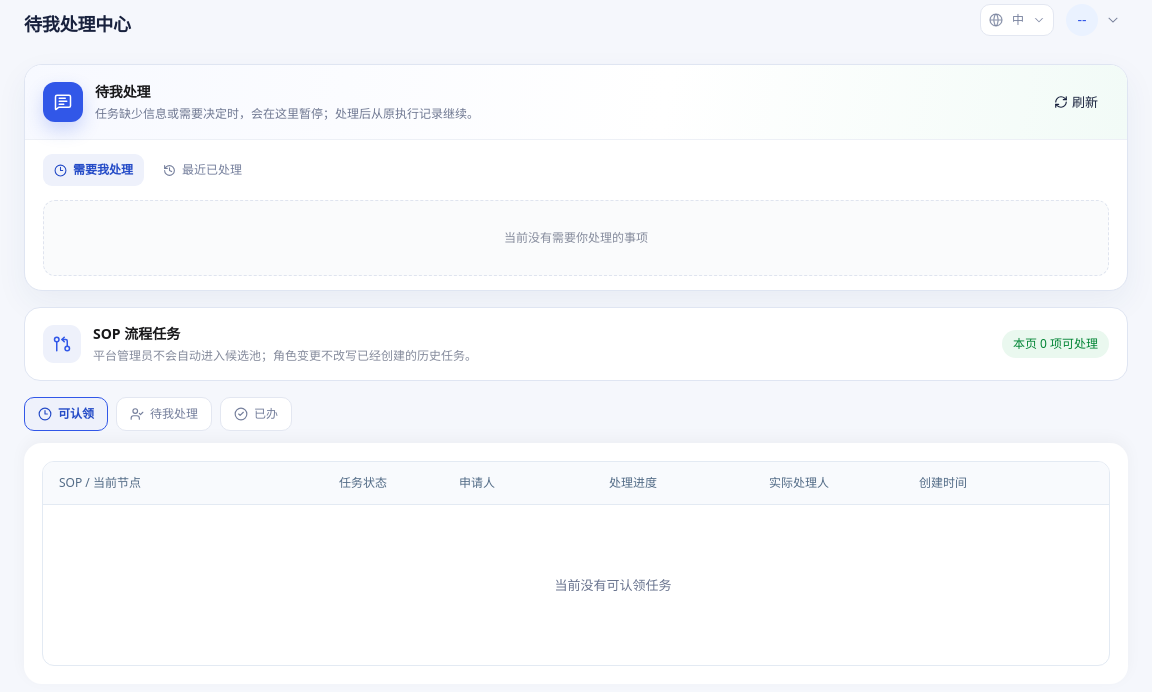
Scenario: 任务箱明确区分可认领、待我处理和已办视图
Expected: the text "当前没有可认领任务" is shown, [43,504,1109,664]
Click the tab "待我处理" at (164, 414), box [116,397,212,431]
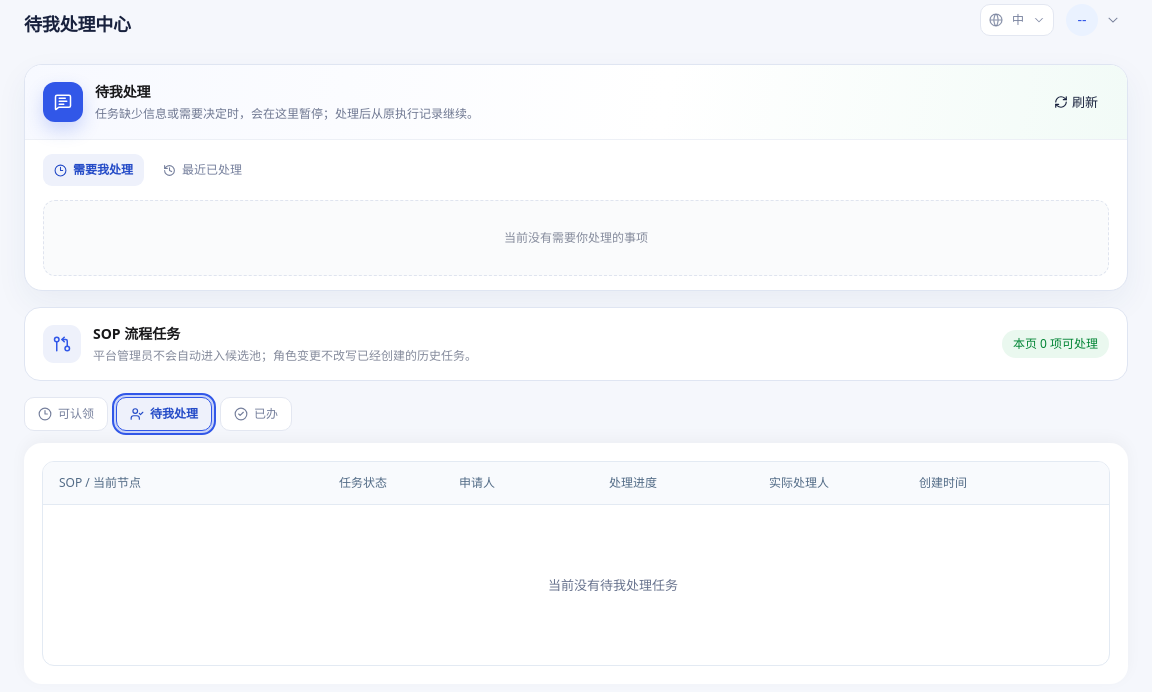
Expected: the text "当前没有待我处理任务" is shown, [43,504,1109,664]
Click the tab "已办" at (256, 414), box [220,397,292,431]
(page scrolled)
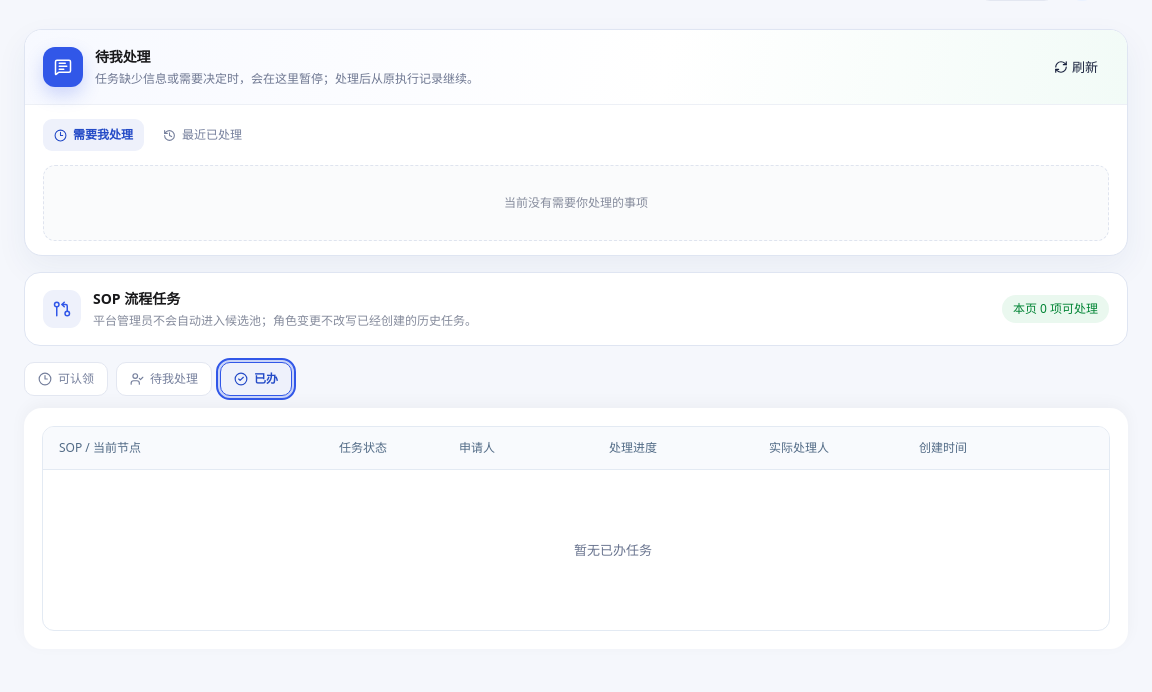
Expected: the text "暂无已办任务" is shown, [43,470,1109,630]
